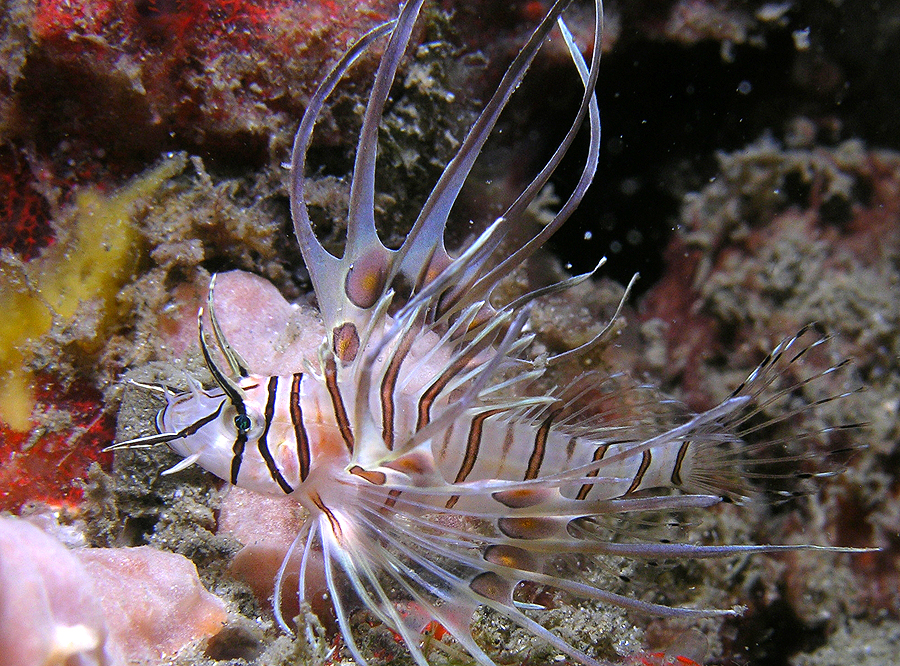Pterois_volitans: (106, 130, 777, 633)
